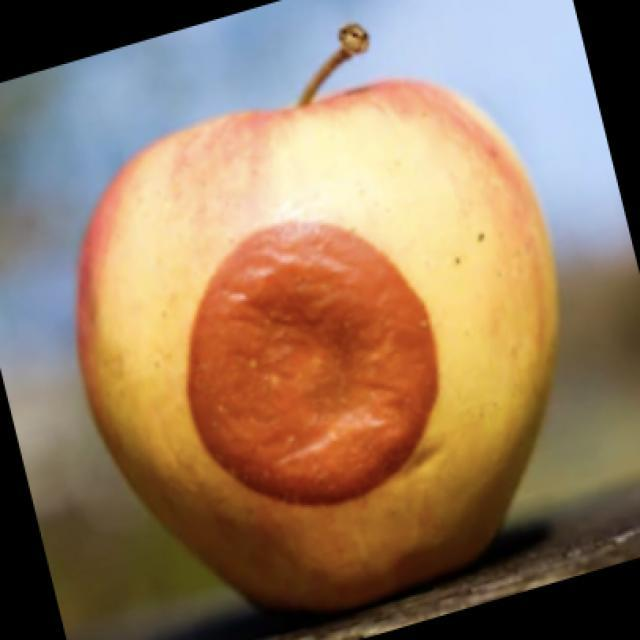Rotten: (80, 89, 572, 598)
